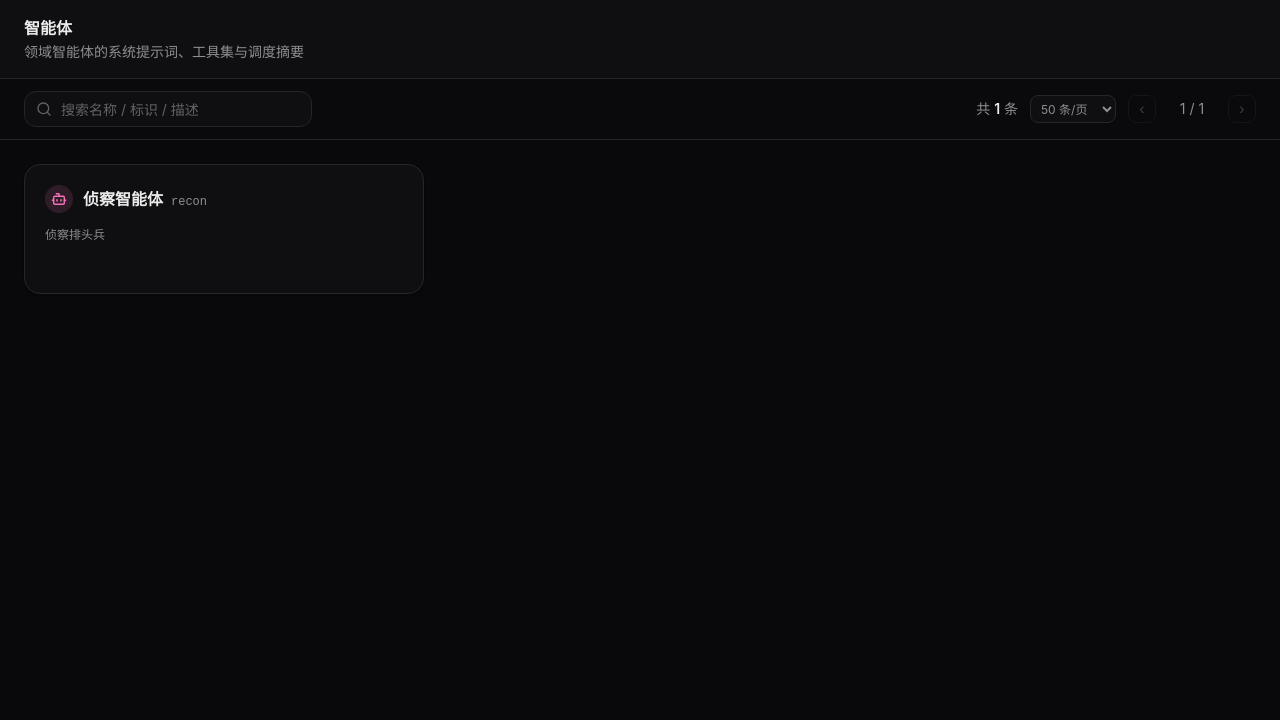
Test: AgentsPage › 抽屉标题为中文名；标识符/名称不渲染（身份上卡片与标题），调度摘要可编辑
Click the button "侦察智能体".
click(123, 199)  # box x1=24 y1=164 x2=424 y2=294
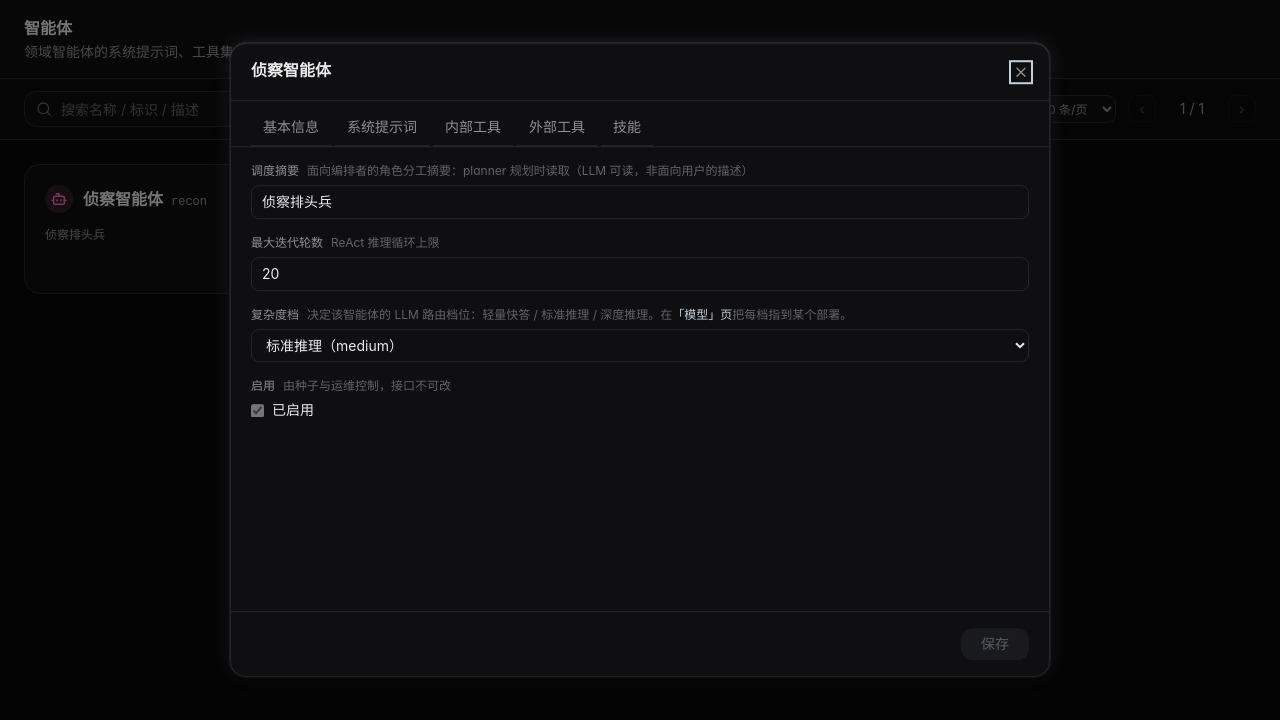
Now the dialog is shown, box x1=230 y1=43 x2=1050 y2=677
Now the heading "侦察智能体" is shown, box x1=251 y1=60 x2=331 y2=84
Now the field labelled "调度摘要" is enabled, box x1=251 y1=185 x2=1029 y2=219
